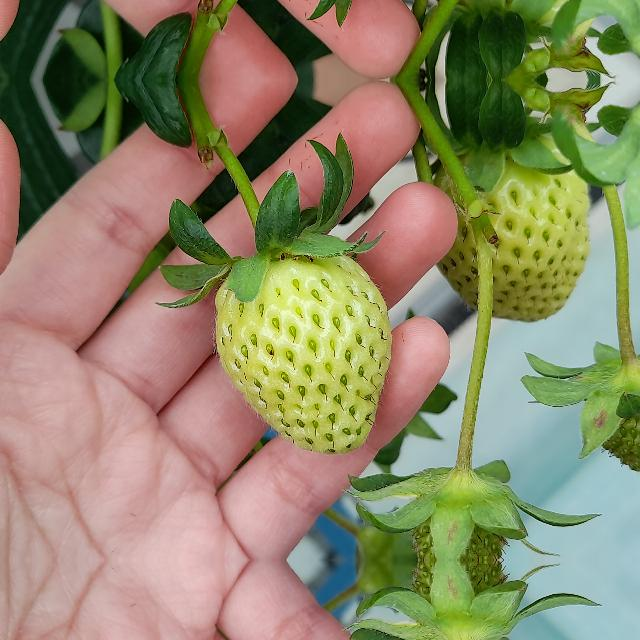Health_25: (215, 254, 392, 454), (429, 144, 593, 324)
